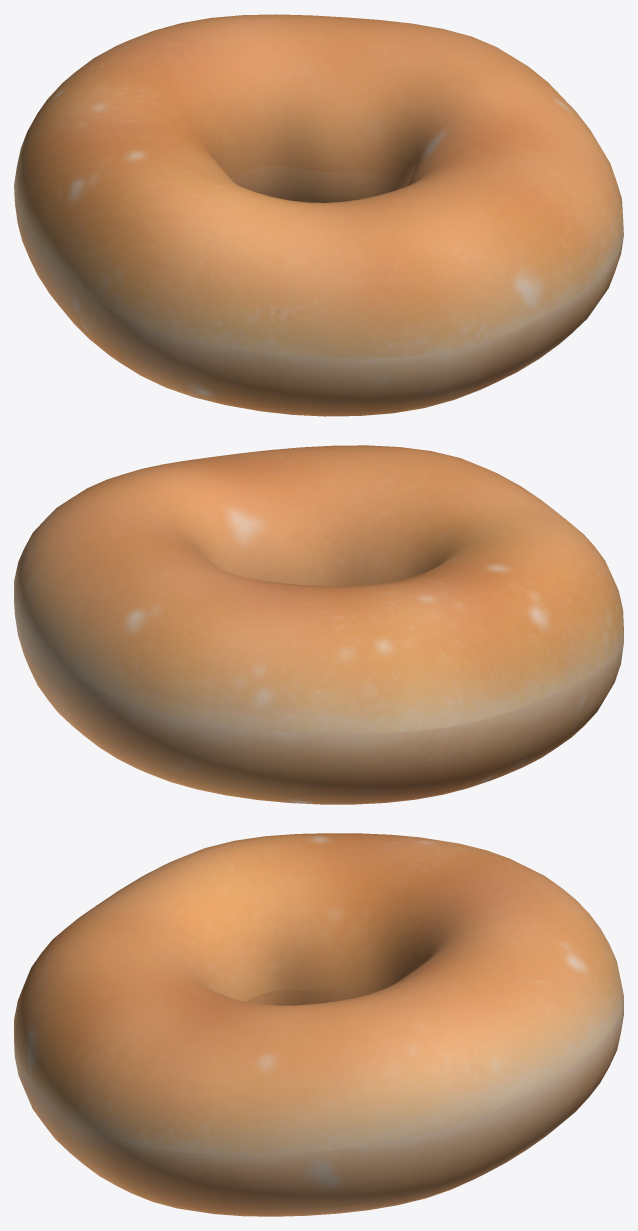
The model's file is Donut5.obj.
3 views of the same model, one above another, from view 1: azimuth 30°, elevation 25°; view 2: azimuth 150°, elevation 25°; view 3: azimuth 270°, elevation 25° (orthographic).
Visible parts, largest first — view 1: donut078; view 2: donut078; view 3: donut078.
Boxes of the visible parts, x1,y1,x2,y2 form: donut078: (14, 14, 623, 416); donut078: (14, 445, 623, 804); donut078: (14, 833, 623, 1216).
Size of the model in its own units: 9.35 by 3.88 by 9.66.
1 material, 1 textured.
